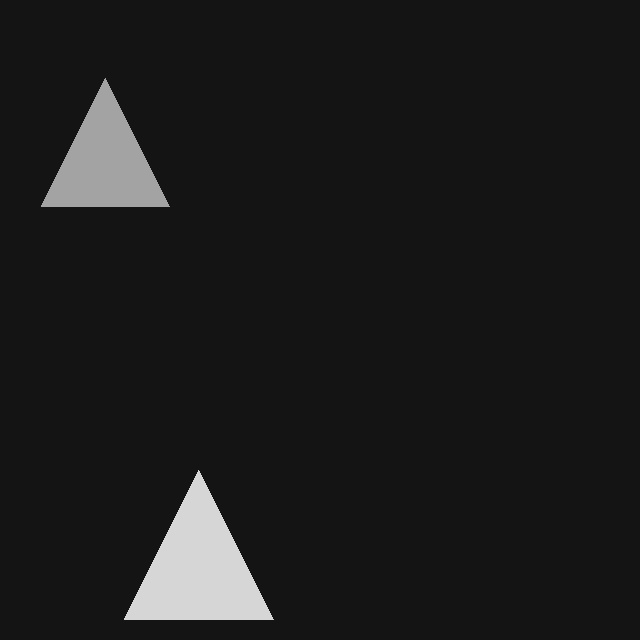triangle: (124, 470, 273, 619), (41, 78, 169, 206)
